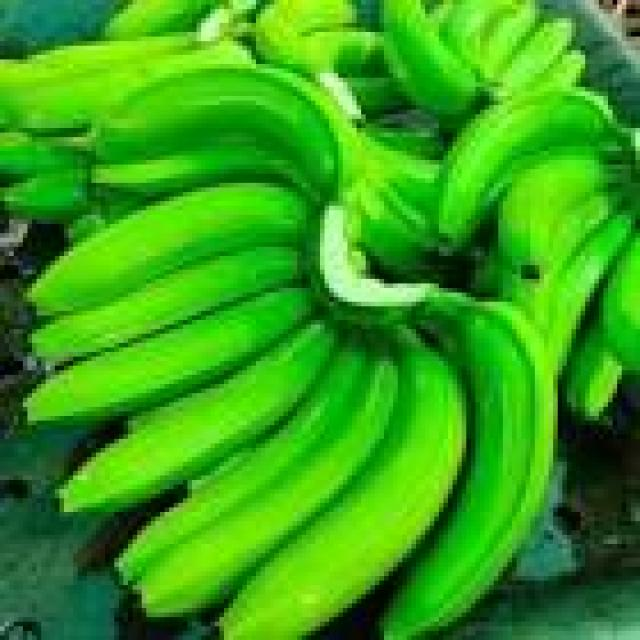banana: (220, 343, 466, 639), (138, 352, 397, 617), (119, 343, 370, 580), (384, 298, 557, 639), (60, 302, 333, 511), (28, 288, 315, 425), (28, 183, 310, 315), (32, 247, 301, 361), (96, 69, 342, 191), (439, 92, 626, 251), (0, 42, 251, 132), (499, 211, 630, 374), (499, 147, 612, 278), (544, 211, 635, 370), (92, 138, 310, 201), (0, 32, 196, 91), (384, 0, 479, 118), (252, 0, 370, 73), (348, 183, 438, 274), (23, 32, 196, 73), (494, 19, 575, 100), (563, 320, 626, 420), (439, 0, 530, 68), (362, 138, 438, 219), (476, 0, 539, 86), (599, 238, 639, 370), (0, 165, 91, 223), (106, 0, 219, 41), (0, 133, 86, 182), (307, 28, 383, 77), (362, 119, 443, 159), (348, 74, 406, 118), (531, 51, 585, 91), (64, 211, 105, 242)
